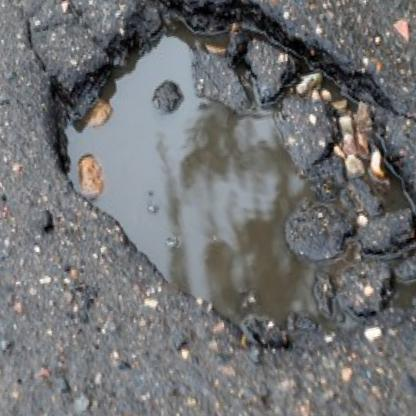pothole: (21, 0, 416, 390)
